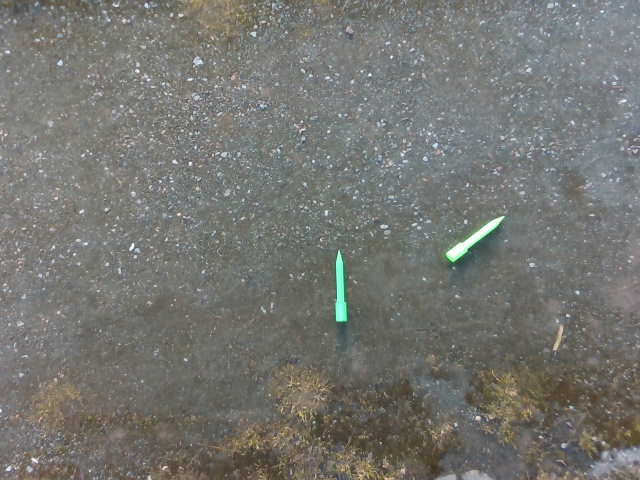Probe: (443, 209, 511, 267), (332, 246, 350, 327)
